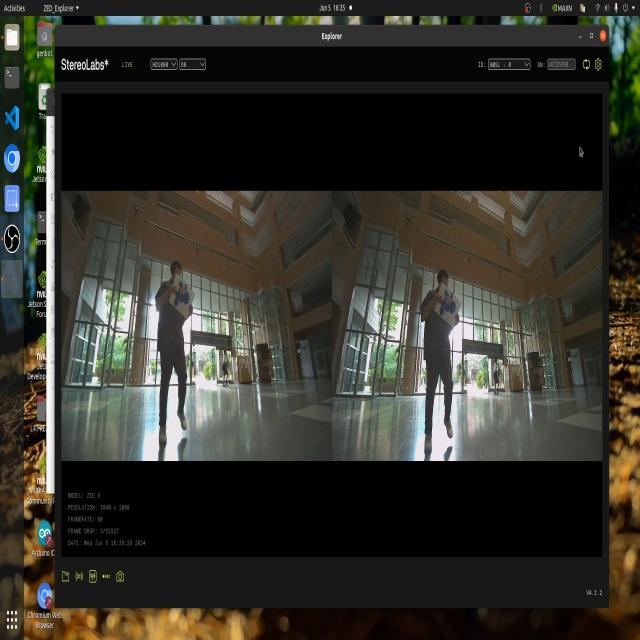blue: (438, 286, 459, 319), (166, 282, 191, 307)
